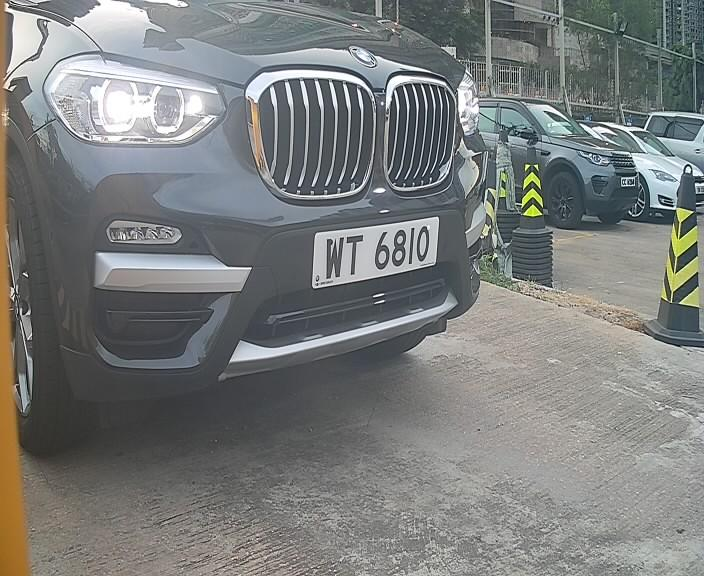License Plate: (299, 206, 447, 299)
